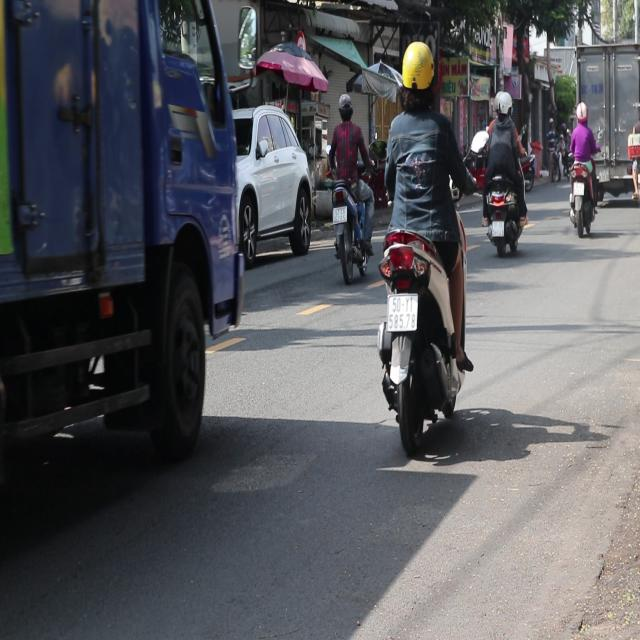helmet: (399, 40, 436, 111), (494, 89, 512, 118)
licenseplate: (373, 37, 477, 452), (327, 91, 374, 283), (479, 88, 529, 257)
motorcyclist: (336, 92, 353, 121)
nohelmet: (387, 294, 417, 331), (332, 206, 346, 223), (492, 220, 504, 236)
